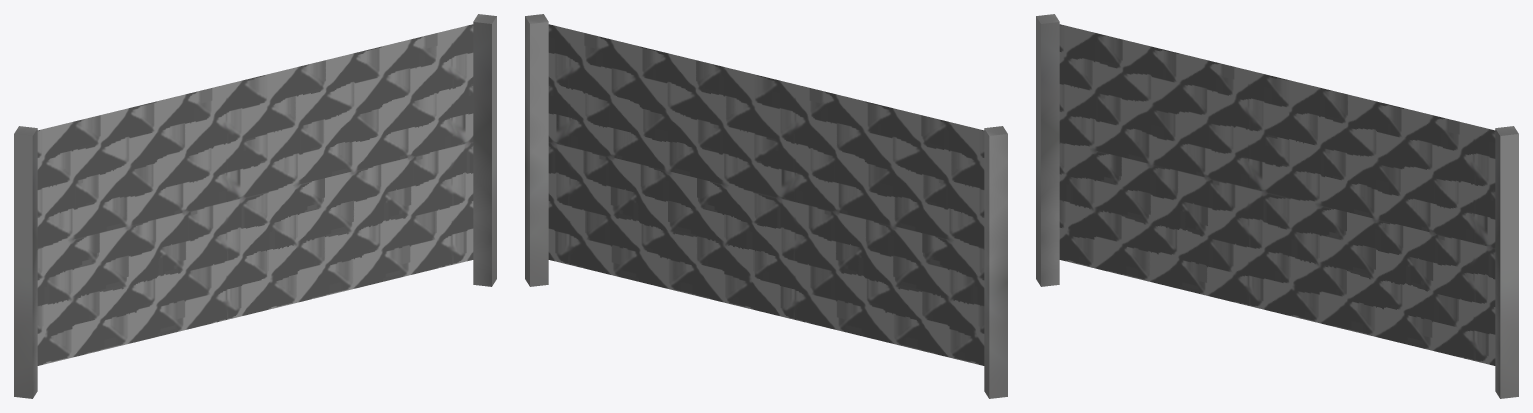
File: Steelfence.fbx
3 renders of one model, left to right at view 1: azimuth 30°, elevation 25°; view 2: azimuth 150°, elevation 25°; view 3: azimuth 330°, elevation 25°, orthographic.
Visible parts, largest first — view 1: Куб; view 2: Куб; view 3: Куб.
Boxes of the visible parts, box(x1,y1,x2,y2) form: Куб: box(14, 14, 496, 398); Куб: box(525, 14, 1007, 398); Куб: box(1036, 14, 1518, 398).
Size of the model in its own units: 429 by 223 by 21.1.
Materials: 1 (1 with a texture image).
